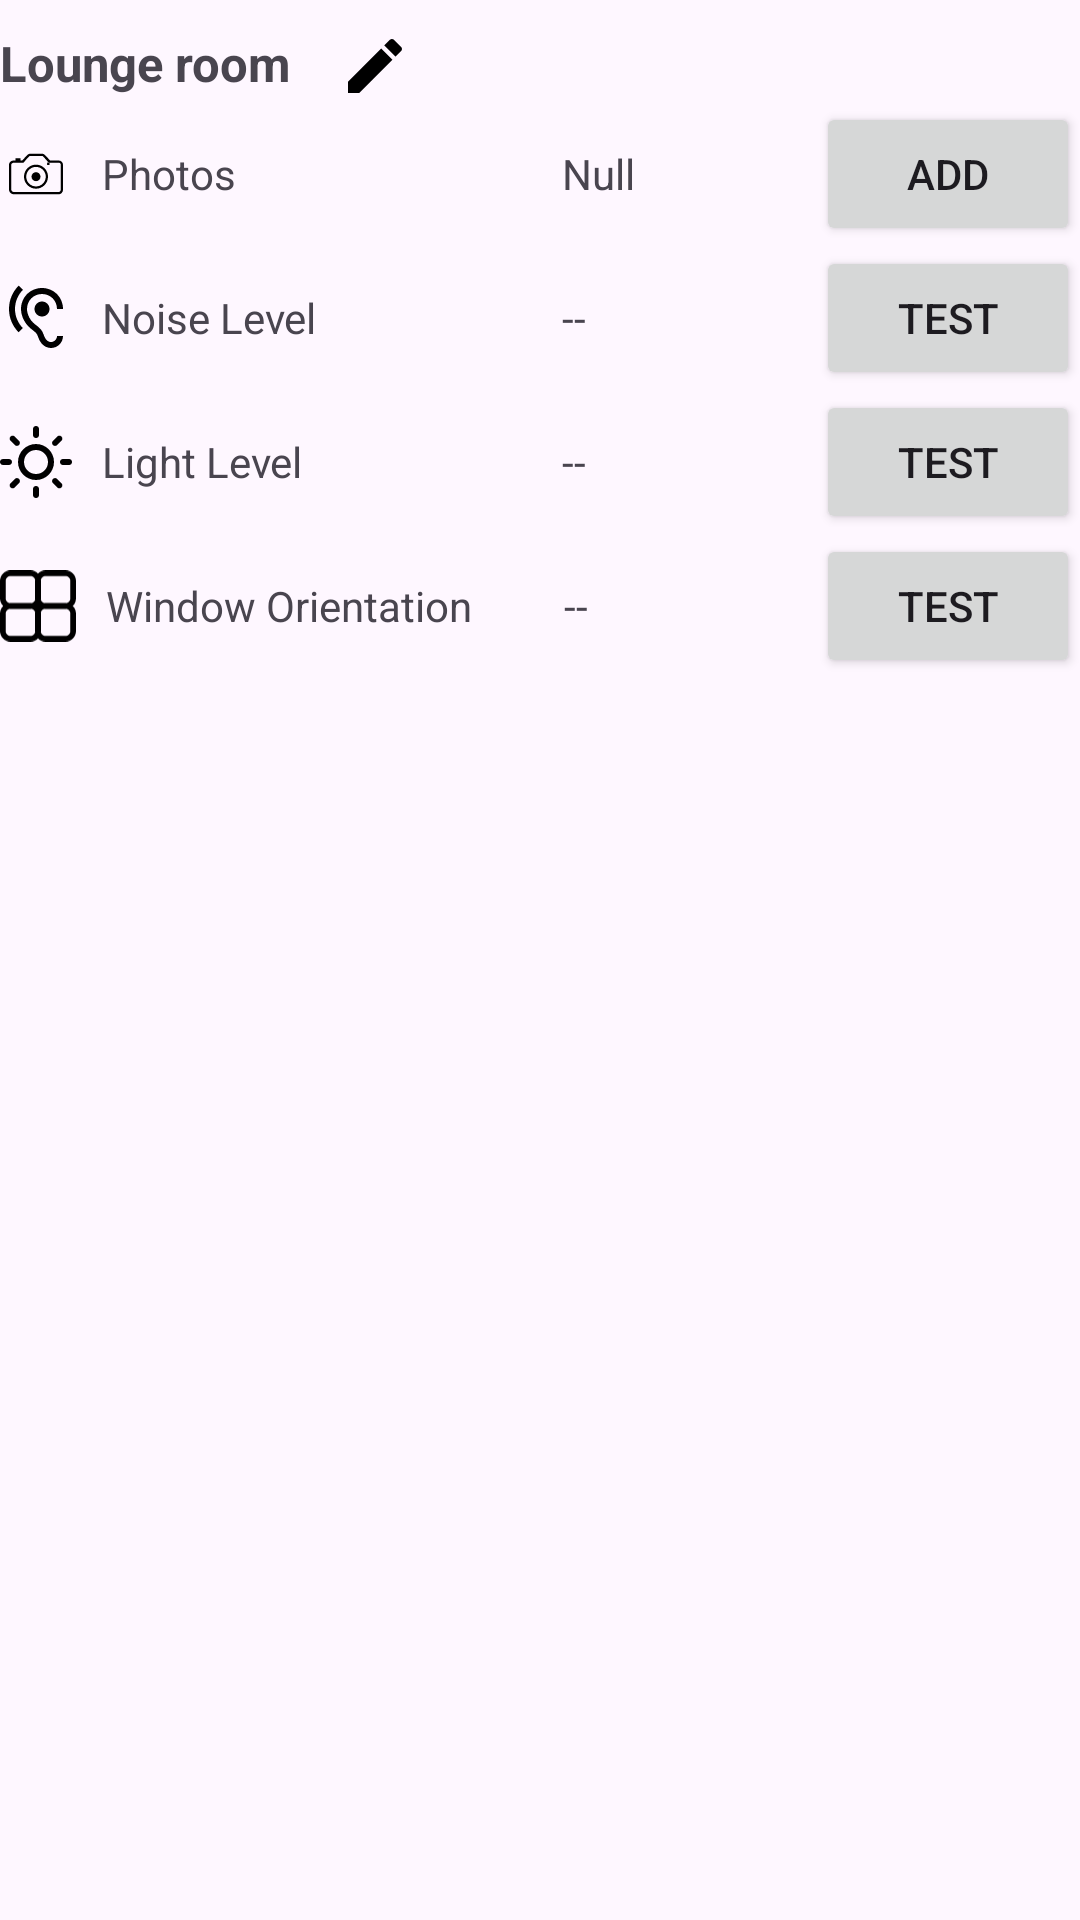

Where to tap for icons on this 1080px×1920px app screen, as (x,y):
camera: (36,174)
